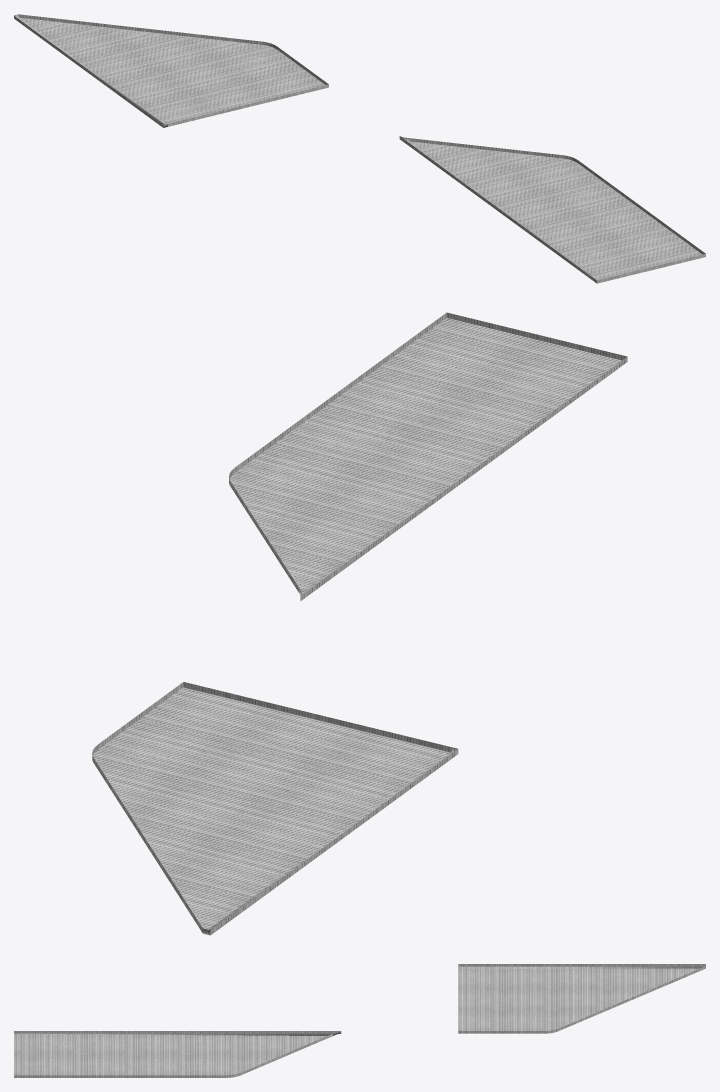
The model's file is PRS_CEILCAP01.FBX.
3 views of the same model, one above another, from view 1: azimuth 30°, elevation 25°; view 2: azimuth 150°, elevation 25°; view 3: azimuth 270°, elevation 25° (orthographic). The views are drawn at different scales.
Visible parts, largest first — view 1: PRS_CEILCAP01; view 2: PRS_CEILCAP01; view 3: PRS_CEILCAP01.
Boxes of the visible parts, box(x1,y1,x2,y2) form: PRS_CEILCAP01: box(14, 14, 705, 283); PRS_CEILCAP01: box(92, 312, 627, 935); PRS_CEILCAP01: box(14, 964, 705, 1077).
Bounding box in the file's own units: 20.14 × 0.2274 × 52.97.
